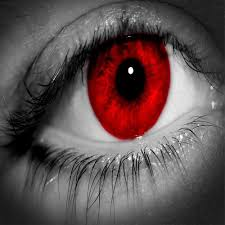e.other: (90, 35, 193, 138)
